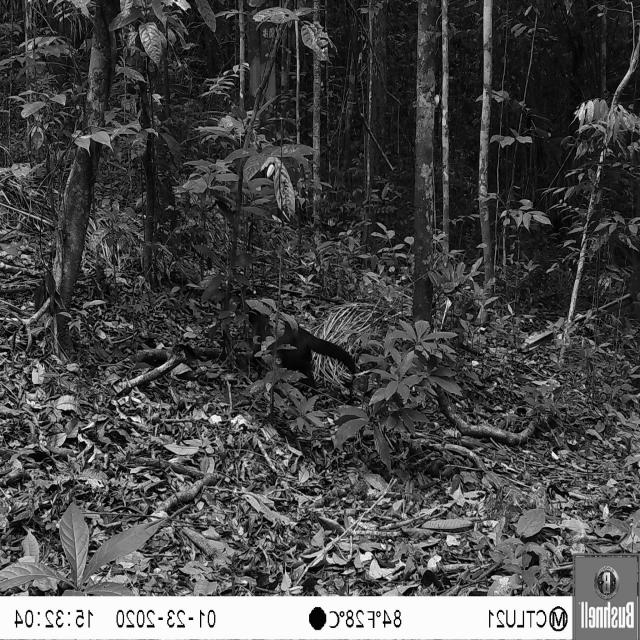Margarita Island Capuchin: (237, 283, 364, 416)
